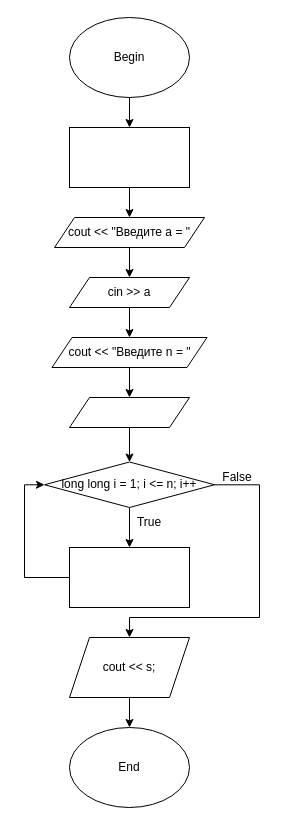
Image size: 285x825. Some labels were removed from this diagram. Each missing label, with the box of its shape:
cin >> n: (68, 396, 190, 428)
long long a, s = 0, r; int n;: (68, 126, 190, 188)
r = pow(2, (i - 1)) * pow(-1, (i - 1)) * a; s += r;: (68, 546, 190, 608)
